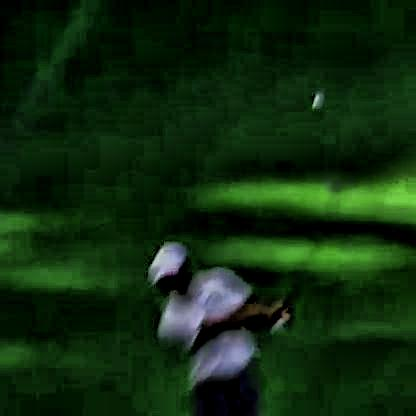golfball: (307, 81, 320, 105)
